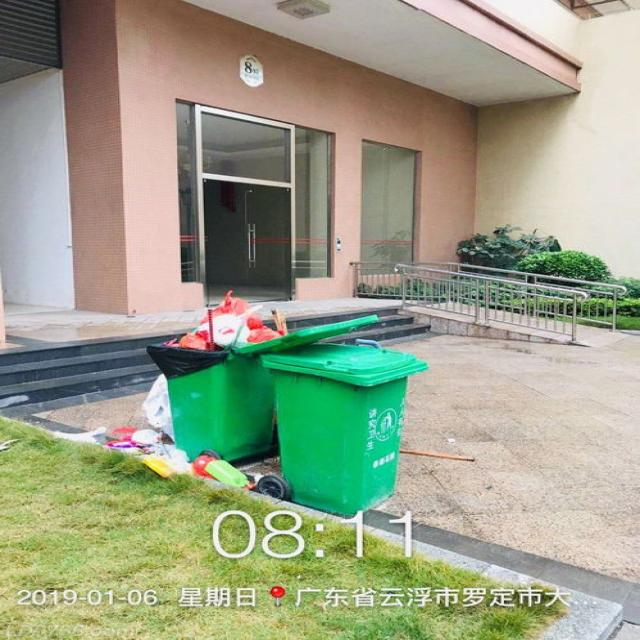garbage: (51, 370, 262, 491)
garbage_bin: (264, 342, 426, 517)
overflow: (145, 290, 273, 460)
